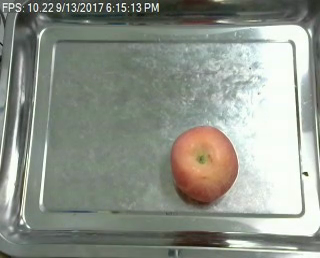Apple: (166, 125, 243, 204)
